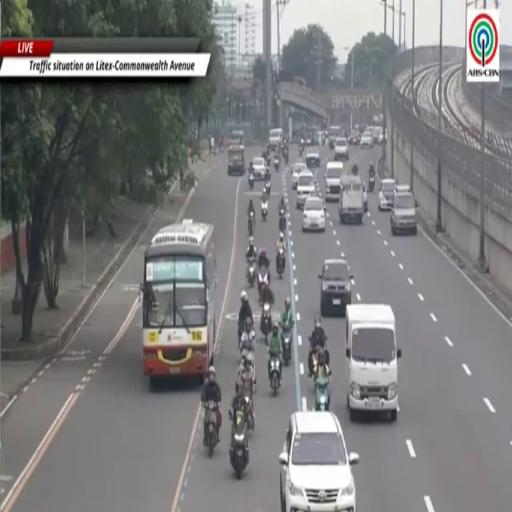bus: (141, 220, 216, 385)
car: (279, 411, 359, 511), (319, 259, 353, 315), (391, 194, 416, 235), (302, 196, 325, 231), (296, 171, 315, 209), (325, 163, 344, 201), (379, 179, 395, 211), (292, 163, 307, 189), (334, 138, 349, 161), (252, 157, 266, 180), (269, 128, 283, 149), (329, 125, 341, 149), (306, 153, 320, 169), (360, 132, 373, 149), (394, 184, 411, 197), (306, 132, 316, 146), (363, 184, 368, 212), (378, 130, 384, 145), (316, 132, 322, 146)
motorcycle: (230, 411, 248, 479), (239, 333, 256, 392), (204, 401, 218, 458), (260, 302, 272, 344), (315, 377, 329, 411), (269, 356, 281, 395), (245, 392, 255, 431), (282, 327, 291, 365), (258, 267, 269, 296), (309, 347, 319, 375), (276, 248, 285, 278), (247, 259, 255, 287), (279, 208, 286, 232), (248, 212, 255, 236), (261, 200, 267, 221), (369, 175, 375, 193), (264, 181, 271, 196), (283, 147, 289, 164), (265, 152, 271, 168), (249, 172, 254, 189), (274, 156, 279, 170), (299, 146, 303, 156), (322, 135, 325, 146)
truck: (346, 303, 401, 421), (339, 174, 363, 223)
